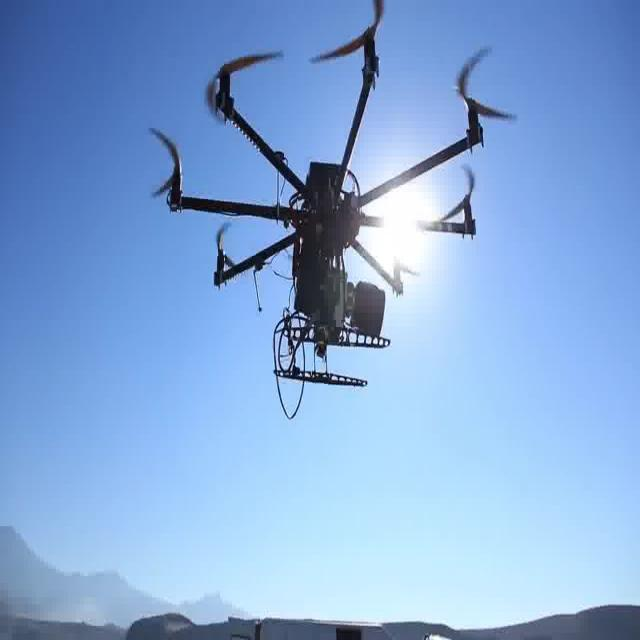drones: (142, 2, 522, 428)
